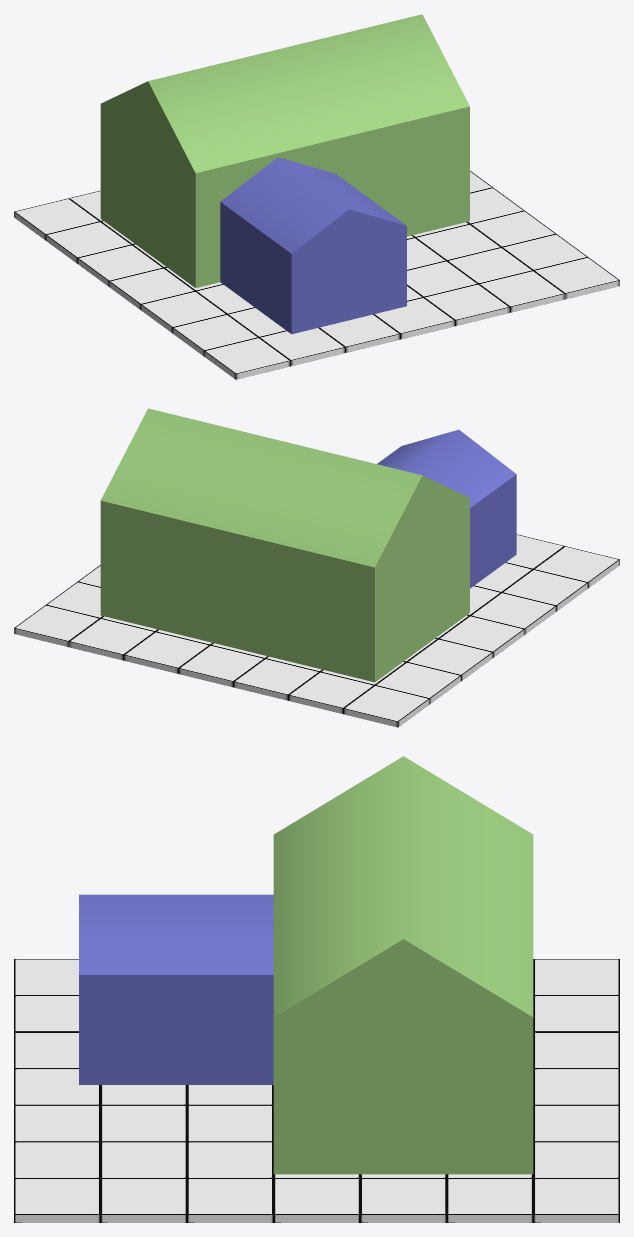
Rendered from XG_Small-house.glb.
3 renders of one model, top to bottom at view 1: azimuth 30°, elevation 25°; view 2: azimuth 150°, elevation 25°; view 3: azimuth 270°, elevation 25°, orthographic. The views are drawn at different scales.
Parts seen in each view (by area): view 1: building_5m_3m_001, building_5m_3m_003, 1m_base_block_439, 1m_base_block_422, 1m_base_block_432, 1m_base_block_421, 1m_base_block_433, 1m_base_block_436, 1m_base_block_425, 1m_base_block_437, 1m_base_block_438, 1m_base_block_434 (+13 smaller); view 2: building_5m_3m_001, building_5m_3m_003, 1m_base_block_438, 1m_base_block_419, 1m_base_block_417, 1m_base_block_418, 1m_base_block_420, 1m_base_block_416, 1m_base_block_431, 1m_base_block_437, 1m_base_block_434, 1m_base_block_436 (+7 smaller); view 3: building_5m_3m_001, building_5m_3m_003, 1m_base_block_428, 1m_base_block_426, 1m_base_block_427, 1m_base_block_429, 1m_base_block_430, 1m_base_block_431, 1m_base_block_432, 1m_base_block_394, 1m_base_block_416, 1m_base_block_418 (+15 smaller).
Part boxes in pixels (<box>): building_5m_3m_001: <box>100,14,469,287</box>; building_5m_3m_003: <box>220,157,406,334</box>; 1m_base_block_439: <box>204,337,290,379</box>; 1m_base_block_422: <box>424,284,510,325</box>; 1m_base_block_432: <box>533,257,619,299</box>; 1m_base_block_421: <box>479,270,564,312</box>; 1m_base_block_433: <box>45,221,131,263</box>; 1m_base_block_436: <box>140,291,226,332</box>; 1m_base_block_425: <box>259,328,345,366</box>; 1m_base_block_437: <box>172,314,258,356</box>; 1m_base_block_438: <box>14,198,100,240</box>; 1m_base_block_434: <box>77,245,163,286</box>; building_5m_3m_001: <box>100,408,469,682</box>; building_5m_3m_003: <box>377,429,516,588</box>; 1m_base_block_438: <box>343,685,429,727</box>; 1m_base_block_419: <box>233,658,319,700</box>; 1m_base_block_417: <box>123,631,209,673</box>; 1m_base_block_418: <box>178,645,264,687</box>; 1m_base_block_420: <box>288,672,374,713</box>; 1m_base_block_416: <box>69,618,154,660</box>; 1m_base_block_431: <box>14,605,99,647</box>; 1m_base_block_437: <box>502,569,588,611</box>; 1m_base_block_434: <box>407,639,493,680</box>; 1m_base_block_436: <box>470,592,556,634</box>; building_5m_3m_001: <box>273,756,533,1174</box>; building_5m_3m_003: <box>79,894,273,1084</box>; 1m_base_block_428: <box>273,1178,360,1222</box>; 1m_base_block_426: <box>447,1178,533,1222</box>; 1m_base_block_427: <box>360,1178,446,1222</box>; 1m_base_block_429: <box>187,1178,273,1222</box>; 1m_base_block_430: <box>100,1178,186,1222</box>; 1m_base_block_431: <box>533,1178,619,1222</box>; 1m_base_block_432: <box>14,1178,100,1222</box>; 1m_base_block_394: <box>187,1141,273,1178</box>; 1m_base_block_416: <box>533,1141,619,1178</box>; 1m_base_block_418: <box>533,1068,619,1105</box>.
Bounding box in the file's own units: 7 × 3.15 × 7.
3 materials, 1 textured.
